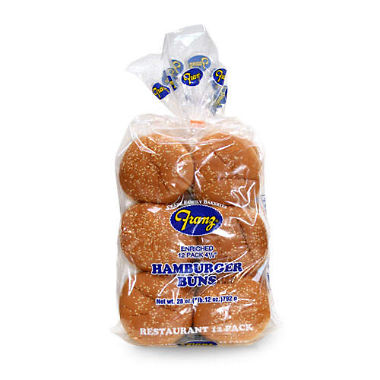hamburger_buns: (109, 121, 272, 349)
